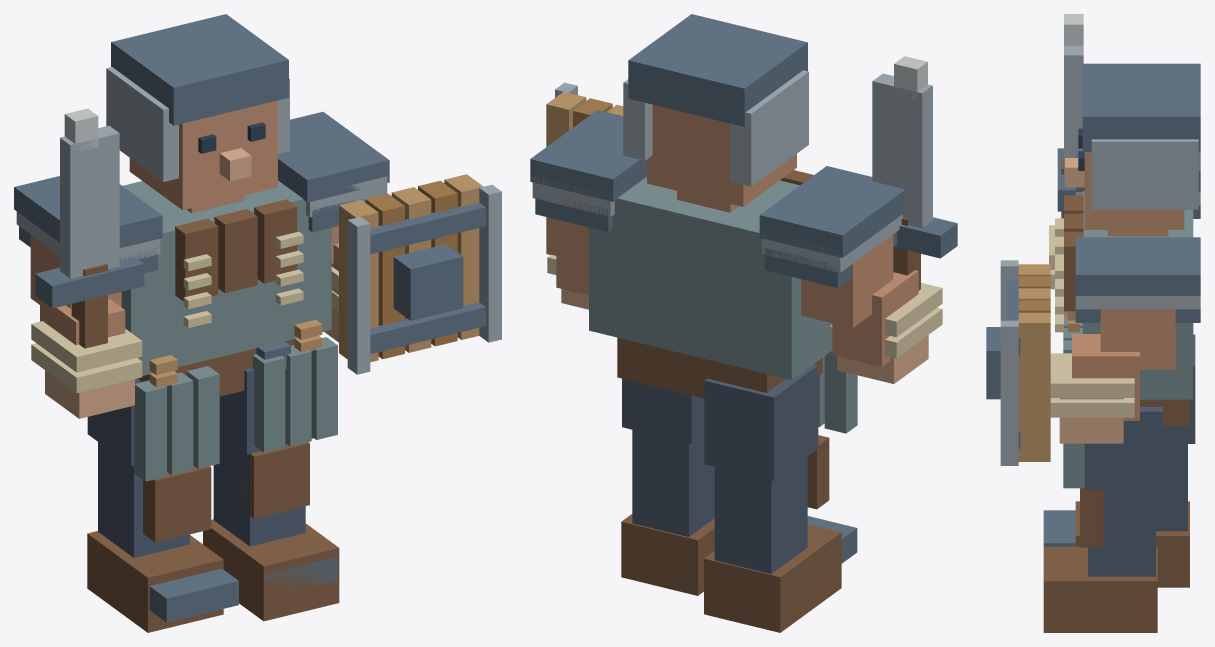
File: arena-q-iron-shield.glb
3 renders of one model, left to right at view 1: azimuth 30°, elevation 25°; view 2: azimuth 150°, elevation 25°; view 3: azimuth 270°, elevation 25°, orthographic. The views are drawn at different scales.
Parts seen in each view (by area): view 1: Shield, Helmet, Boots, Cloth, Skirt, Weapon, Shoulders, Legs, Head, Greaves, Vest, Wraps (+5 smaller); view 2: Cloth, Legs, Shoulders, Helmet, Boots, Weapon, Arms, Head, Belt, Wraps, Skirt, Hands (+2 smaller); view 3: Helmet, Legs, Shield, Boots, Shoulders, Arms, Wraps, Cloth, Weapon, Head, Hands, Vest (+5 smaller).
Boxes of the visible parts, <box> form: Shield: <box>339,174,501,374</box>; Helmet: <box>106,14,289,181</box>; Boots: <box>87,519,339,632</box>; Cloth: <box>121,180,331,375</box>; Skirt: <box>134,337,337,481</box>; Weapon: <box>35,108,144,348</box>; Shoulders: <box>14,111,389,273</box>; Legs: <box>87,368,313,557</box>; Head: <box>129,100,277,213</box>; Greaves: <box>143,442,309,542</box>; Vest: <box>175,199,297,301</box>; Wraps: <box>31,266,338,392</box>; Cloth: <box>589,177,832,379</box>; Legs: <box>622,364,818,573</box>; Shoulders: <box>530,110,905,287</box>; Helmet: <box>623,14,808,186</box>; Boots: <box>621,514,857,632</box>; Weapon: <box>872,56,957,290</box>; Arms: <box>547,217,918,366</box>; Head: <box>647,104,796,212</box>; Belt: <box>617,337,822,398</box>; Wraps: <box>547,254,942,357</box>; Skirt: <box>818,351,857,433</box>; Hands: <box>561,289,928,383</box>; Helmet: <box>1082,63,1200,209</box>; Legs: <box>1081,334,1195,576</box>; Shield: <box>986,260,1050,465</box>; Boots: <box>1043,501,1189,632</box>; Shoulders: <box>1075,148,1200,322</box>; Arms: <box>1072,309,1175,420</box>; Wraps: <box>1049,225,1134,417</box>; Cloth: <box>1082,191,1193,399</box>; Weapon: <box>1057,14,1083,218</box>; Head: <box>1084,152,1184,236</box>; Hands: <box>1059,311,1123,443</box>; Vest: <box>1064,195,1083,311</box>.
Size of the model in its own units: 1.48 by 1.8 by 0.6945.
